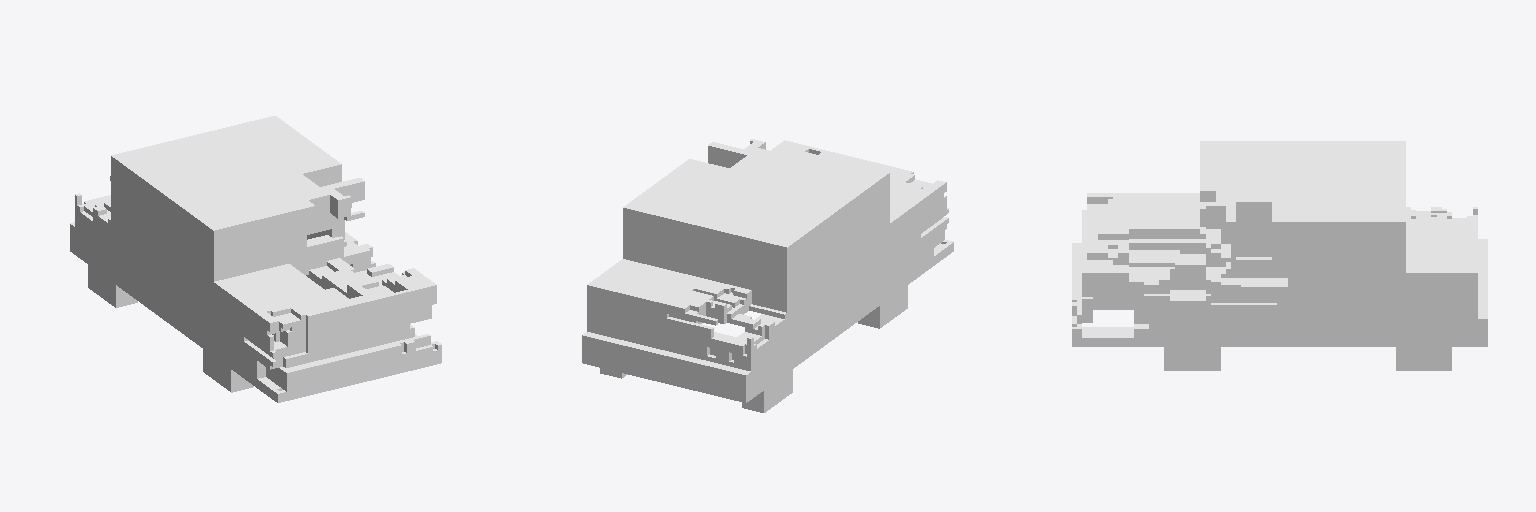
File: recar_1.1.obj
3 renders of one model, left to right at view 1: azimuth 30°, elevation 25°; view 2: azimuth 150°, elevation 25°; view 3: azimuth 270°, elevation 25°, orthographic.
Bounding box in the file's own units: 37 × 32 × 81.